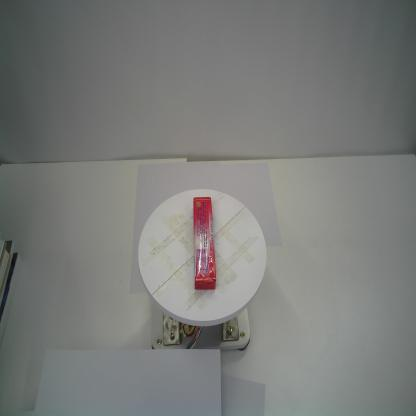Candy: (192, 196, 216, 291)
